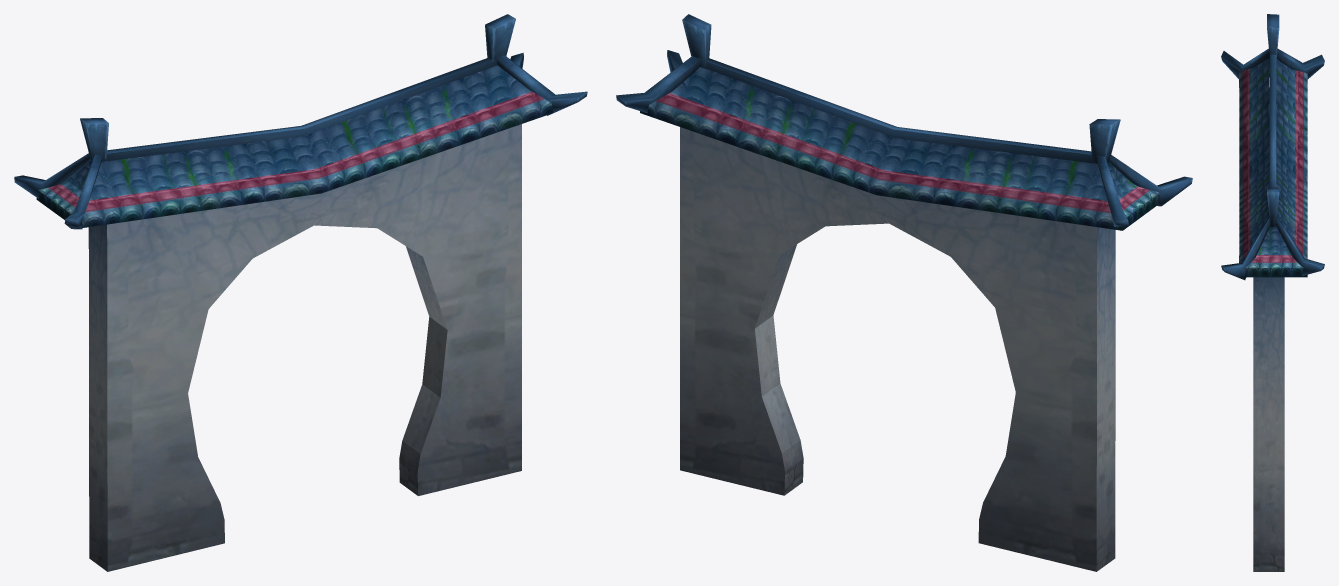
Rendered from environment_building_qinghuacifangqiang_01_d.FBX.
The picture shows the model from 3 angles, left to right: view 1: azimuth 30°, elevation 25°; view 2: azimuth 150°, elevation 25°; view 3: azimuth 270°, elevation 25°; orthographic projection. The views are drawn at different scales.
Parts seen in each view (by area): view 1: environment_building_qinghuacifangqiang_01_d0, environment_building_qinghuacifangqiang_01_d1, environment_building_qinghuacifangqiang_01_d2; view 2: environment_building_qinghuacifangqiang_01_d0, environment_building_qinghuacifangqiang_01_d1, environment_building_qinghuacifangqiang_01_d2; view 3: environment_building_qinghuacifangqiang_01_d1, environment_building_qinghuacifangqiang_01_d0, environment_building_qinghuacifangqiang_01_d2.
Boxes of the visible parts, x1,y1,x2,y2 form: environment_building_qinghuacifangqiang_01_d0: [88, 124, 521, 571]; environment_building_qinghuacifangqiang_01_d1: [36, 65, 553, 228]; environment_building_qinghuacifangqiang_01_d2: [14, 14, 587, 229]; environment_building_qinghuacifangqiang_01_d0: [680, 127, 1115, 571]; environment_building_qinghuacifangqiang_01_d1: [640, 67, 1159, 230]; environment_building_qinghuacifangqiang_01_d2: [616, 14, 1192, 226]; environment_building_qinghuacifangqiang_01_d1: [1239, 58, 1307, 277]; environment_building_qinghuacifangqiang_01_d0: [1253, 87, 1284, 571]; environment_building_qinghuacifangqiang_01_d2: [1221, 14, 1324, 280].
Size of the model in its own units: 211 by 172 by 42.68.
3 materials, 3 textured.
